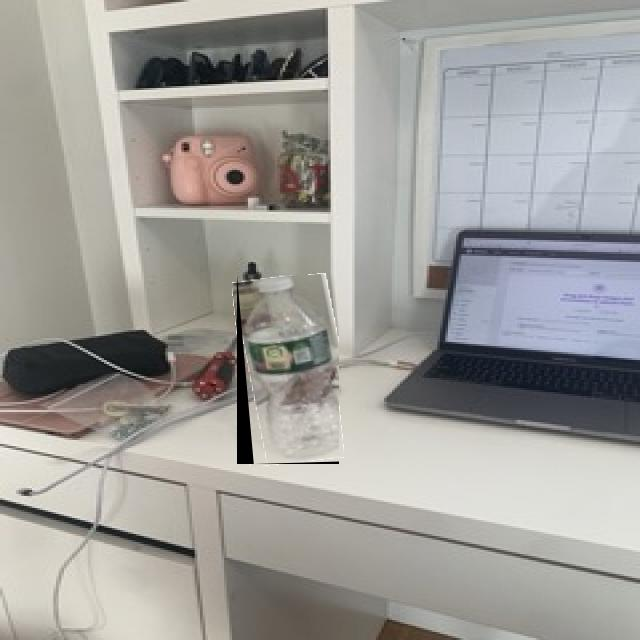water_bottle: (237, 275, 339, 464)
